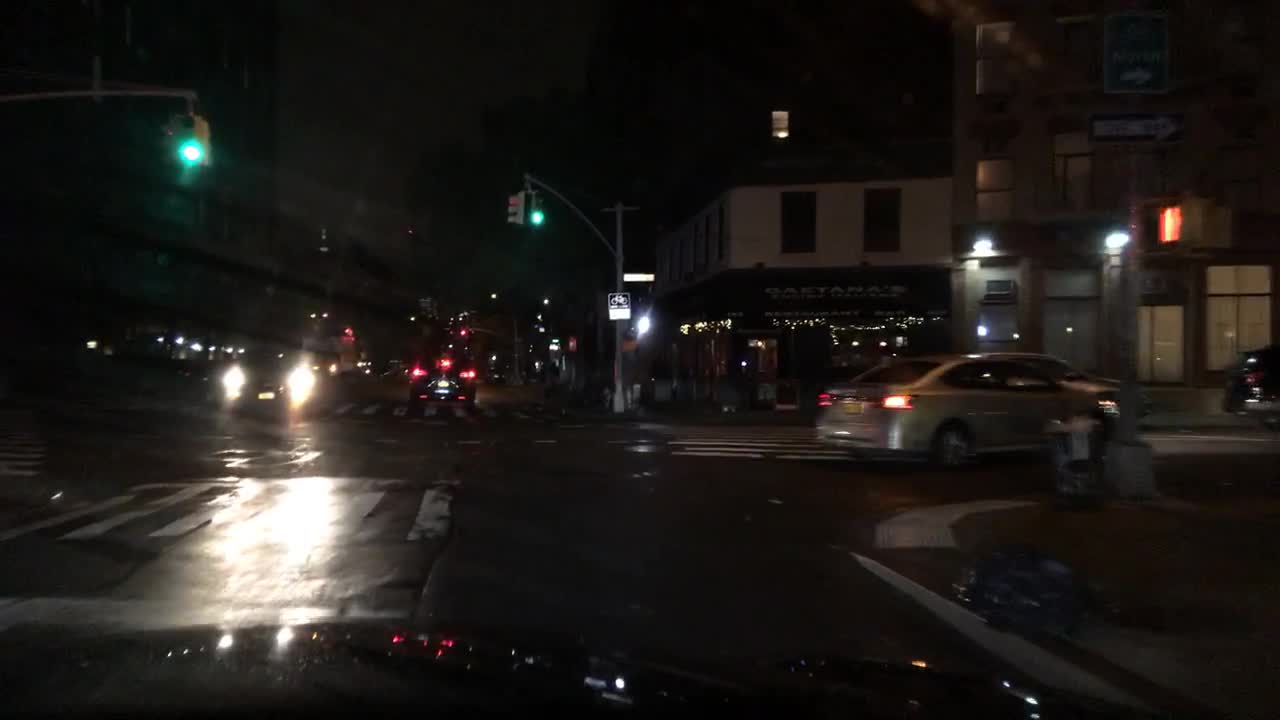car: (813, 354, 1109, 479), (968, 349, 1141, 430), (220, 349, 327, 417), (1220, 338, 1279, 431), (402, 344, 479, 409)
traffic light: (1152, 200, 1198, 248), (178, 115, 197, 161), (197, 115, 213, 161), (163, 115, 178, 159), (506, 188, 524, 223), (528, 190, 545, 223)
traffic sign: (1106, 13, 1174, 90), (1091, 117, 1187, 144), (608, 291, 632, 320), (622, 271, 656, 283)
